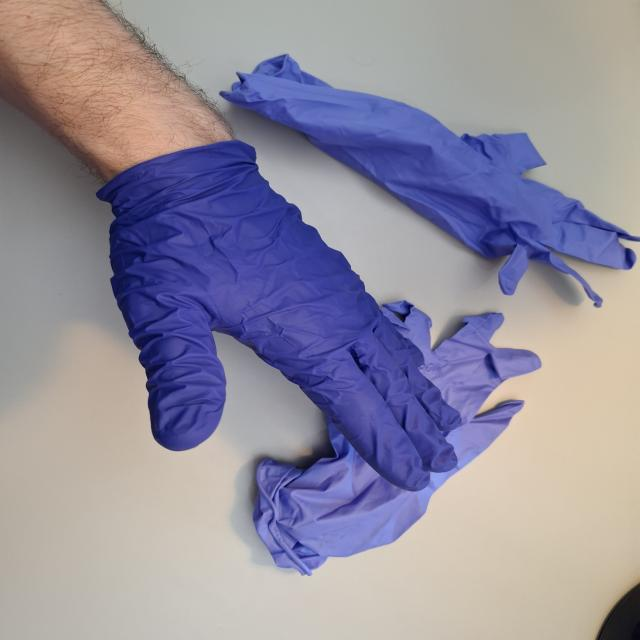glove_on: (95, 139, 465, 494)
